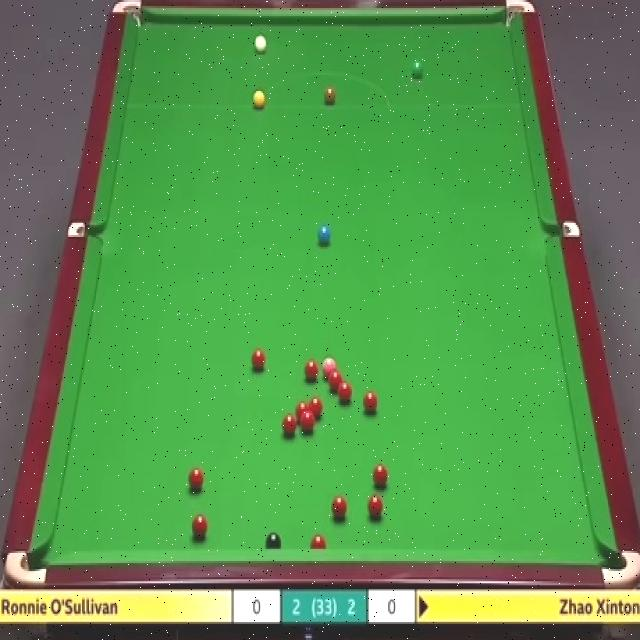black-ball: (265, 532, 283, 548)
blue-ball: (318, 226, 332, 243)
brown-ball: (325, 86, 336, 105)
green-ball: (411, 61, 423, 77)
pink-ball: (322, 356, 337, 377)
red-ball: (371, 464, 389, 489), (332, 494, 348, 521), (302, 361, 320, 382), (310, 395, 328, 416), (192, 516, 208, 539), (363, 390, 379, 413), (251, 345, 266, 369), (368, 495, 383, 519), (187, 468, 205, 488), (336, 380, 352, 402), (282, 412, 296, 437), (296, 401, 310, 421), (301, 411, 315, 431), (309, 534, 328, 548), (328, 369, 342, 388)
white-ball: (254, 34, 266, 53)
yellow-ball: (253, 89, 265, 110)
